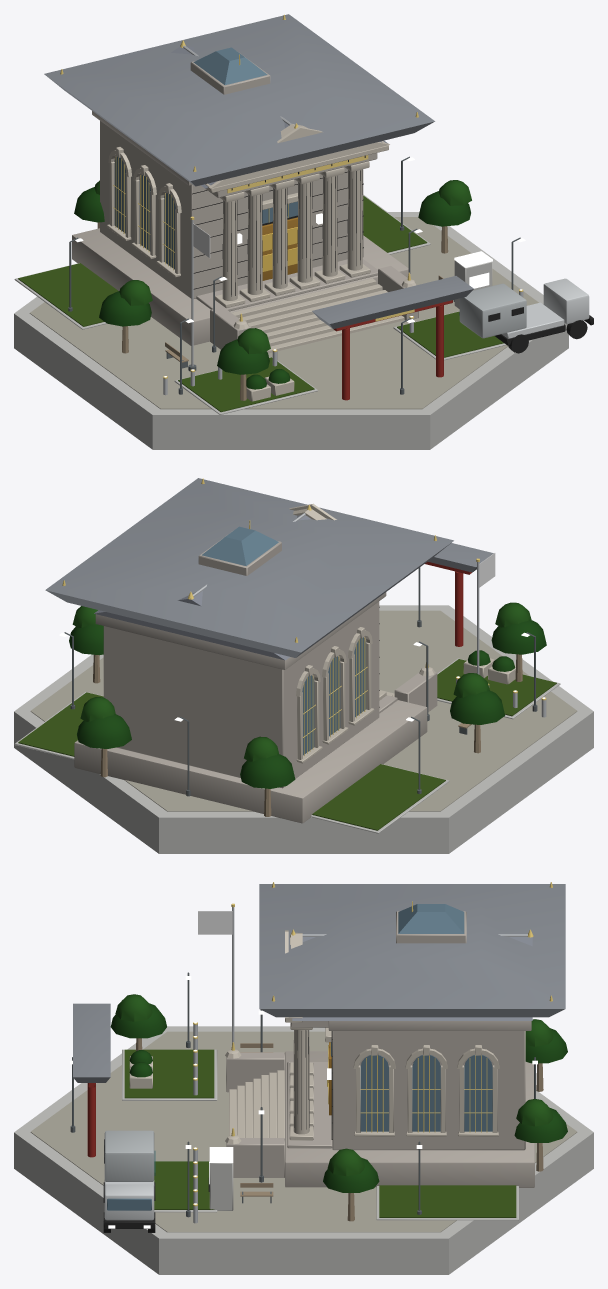
File: bank_asia.glb
3 renders of one model, top to bottom at view 1: azimuth 30°, elevation 25°; view 2: azimuth 150°, elevation 25°; view 3: azimuth 270°, elevation 25°, orthographic. The views are drawn at different scales.
Visible parts, largest first — view 1: stone, roof_slate, wall_concrete, pavers, turf, leaf, paint, dark, glass, gold, steel_dark, metal (+2 smaller); view 2: stone, roof_slate, wall_concrete, pavers, leaf, turf, glass, gold, steel_dark, wood, paint, metal; view 3: roof_slate, stone, wall_concrete, pavers, turf, glass, leaf, paint, gold, dark, steel_dark, wood (+3 smaller).
Part boxes in pixels (left/top/right/bottom): stone: left=72, top=53, right=418, bottom=401; roof_slate: left=44, top=14, right=473, bottom=328; wall_concrete: left=14, top=194, right=568, bottom=449; pavers: left=29, top=217, right=538, bottom=409; turf: left=18, top=196, right=503, bottom=412; leaf: left=74, top=180, right=471, bottom=389; paint: left=333, top=278, right=589, bottom=400; dark: left=192, top=155, right=593, bottom=353; glass: left=114, top=47, right=297, bottom=269; gold: left=60, top=14, right=523, bottom=378; steel_dark: left=68, top=156, right=520, bottom=394; metal: left=163, top=45, right=523, bottom=395; stone: left=74, top=503, right=515, bottom=823; roof_slate: left=45, top=478, right=493, bottom=660; wall_concrete: left=14, top=605, right=593, bottom=853; pavers: left=30, top=610, right=577, bottom=811; leaf: left=69, top=602, right=546, bottom=788; turf: left=18, top=659, right=556, bottom=830; glass: left=202, top=526, right=365, bottom=755; gold: left=62, top=478, right=546, bottom=755; steel_dark: left=64, top=567, right=537, bottom=796; wood: left=93, top=654, right=522, bottom=816; paint: left=425, top=561, right=471, bottom=646; metal: left=188, top=513, right=546, bottom=717; roof_slate: left=73, top=884, right=565, bottom=1082; stone: left=129, top=911, right=534, bottom=1187; wall_concrete: left=14, top=1026, right=593, bottom=1274; pavers: left=30, top=1031, right=577, bottom=1232; turf: left=124, top=1049, right=516, bottom=1217; glass: left=107, top=904, right=492, bottom=1210; leaf: left=110, top=994, right=567, bottom=1192; paint: left=87, top=1083, right=155, bottom=1220; gold: left=193, top=882, right=552, bottom=1206; dark: left=103, top=1030, right=332, bottom=1232; steel_dark: left=70, top=972, right=535, bottom=1217; wood: left=136, top=1038, right=543, bottom=1221.
Size of the model in its own units: 21.3 by 12.5 by 24.6.
